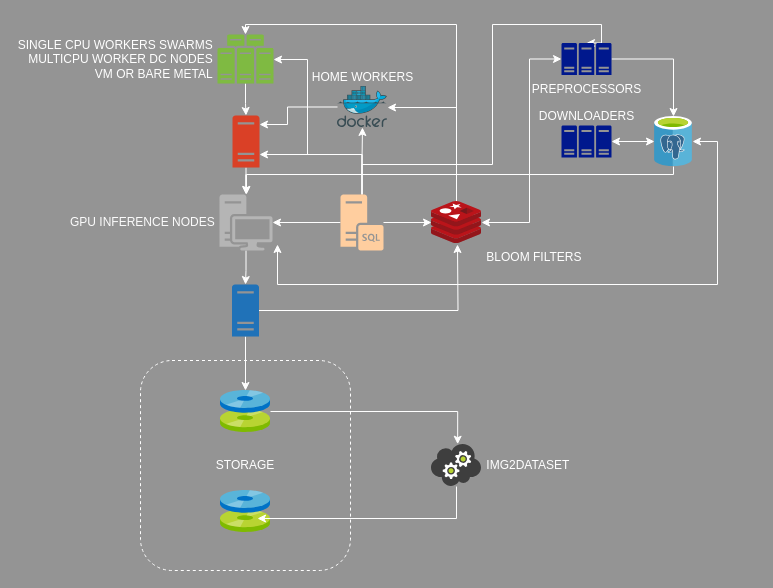
Some shapes in this 773 by 588 pixel diagram are drawn without their labels. The shapes that lost their labels are listed below. From the top down, each one's centre as x and y in pixels, then its label:
At (x=245, y=141): "DL STAGING".
At (x=673, y=141): "DATABASE".
At (x=361, y=222): "TRACKER".
At (x=245, y=310): "MAIN STAGING".
